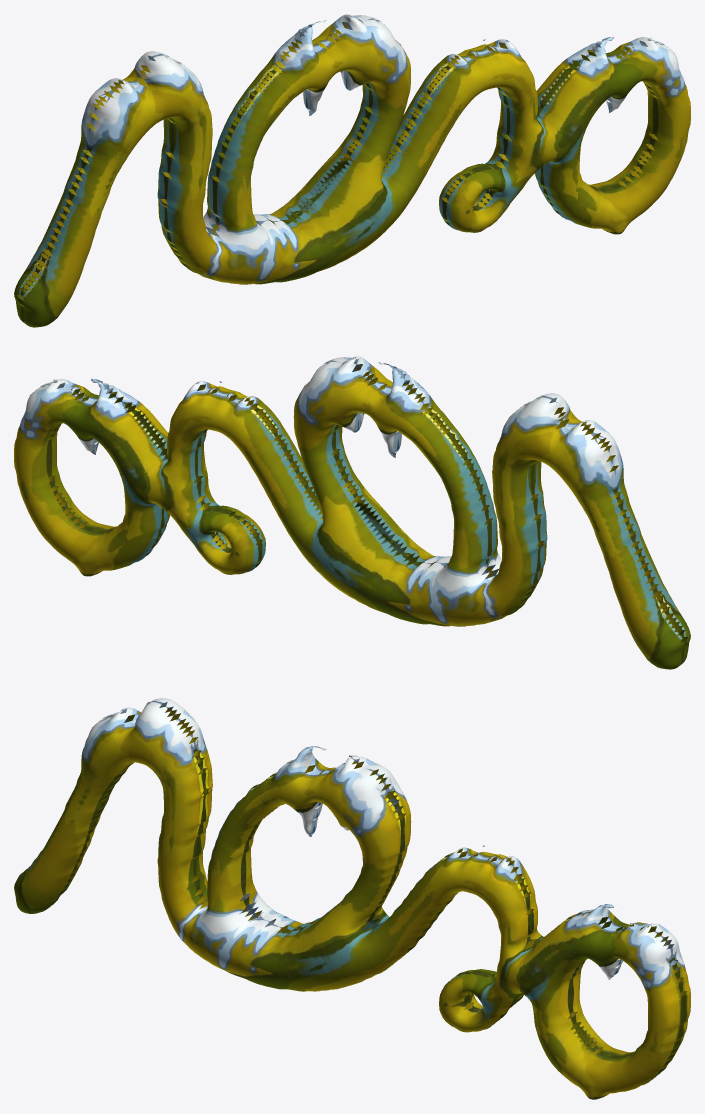
The model's file is vine_railing.glb.
3 renders of one model, top to bottom at view 1: azimuth 30°, elevation 25°; view 2: azimuth 150°, elevation 25°; view 3: azimuth 330°, elevation 25°, orthographic.
Parts seen in each view (by area): view 1: vine_railing; view 2: vine_railing; view 3: vine_railing.
Boxes of the visible parts, x1,y1,x2,y2 form: vine_railing: [14, 14, 690, 327]; vine_railing: [14, 356, 690, 669]; vine_railing: [14, 698, 690, 1099].
Bounding box in the file's own units: 0.9887 × 0.3944 × 0.1238.
Materials: 1 (1 with a texture image).
